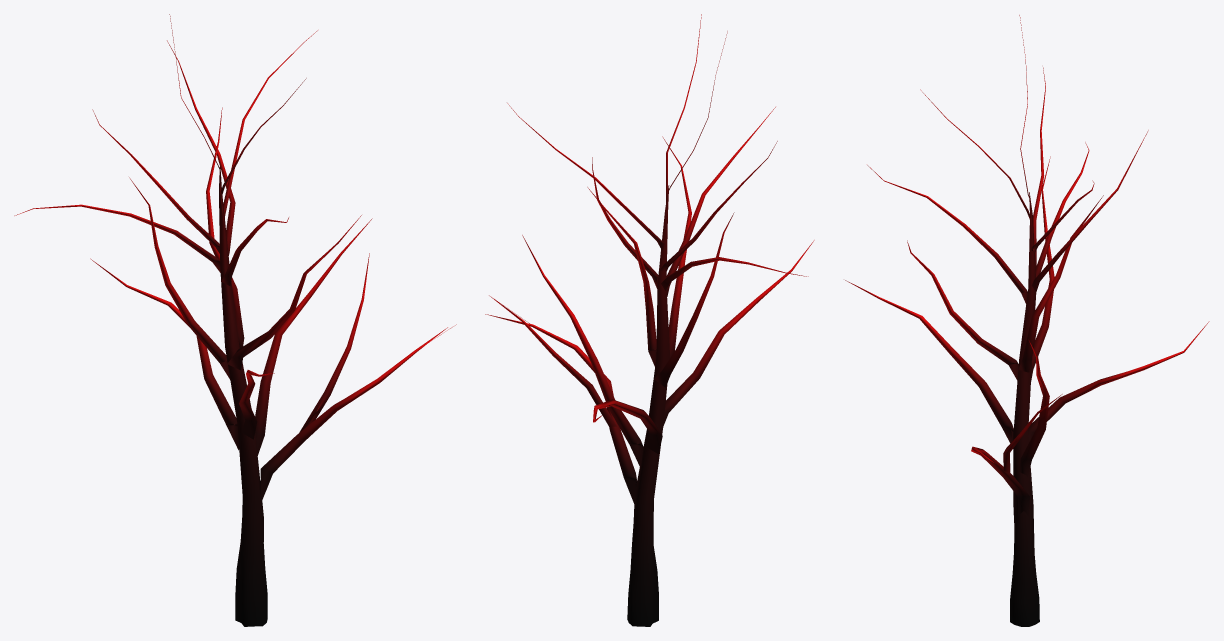
File: Small_Tree_NoLeaf.fbx
3 renders of one model, left to right at view 1: azimuth 30°, elevation 25°; view 2: azimuth 150°, elevation 25°; view 3: azimuth 270°, elevation 25°, orthographic. The views are drawn at different scales.
Visible parts, largest first — view 1: Small_Tree__1__LOD0; view 2: Small_Tree__1__LOD0; view 3: Small_Tree__1__LOD0.
Boxes of the visible parts, x1=… form: Small_Tree__1__LOD0: x1=14, y1=14, x2=456, y2=626; Small_Tree__1__LOD0: x1=485, y1=14, x2=814, y2=626; Small_Tree__1__LOD0: x1=845, y1=15, x2=1209, y2=626.
Size of the model in its own units: 348 by 545 by 318.
